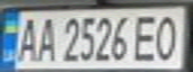2: (57, 14, 81, 63), (93, 12, 115, 63)
5: (78, 12, 96, 63)
6: (109, 12, 136, 62)
A: (12, 14, 42, 63), (33, 14, 57, 63)
E: (130, 11, 163, 62)
O: (151, 11, 184, 62)
